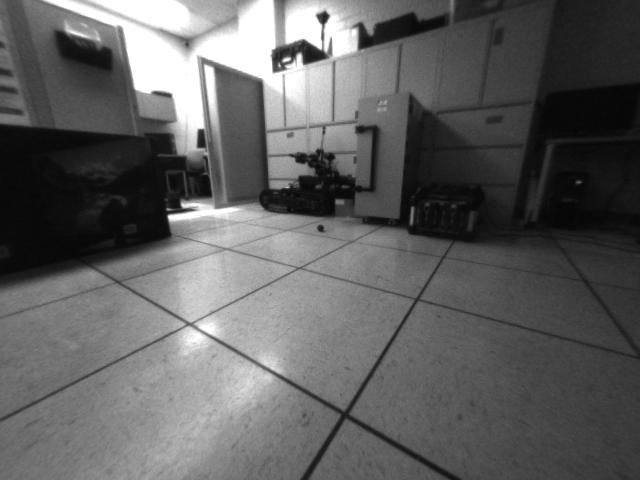dogtoy: (311, 221, 333, 236)
